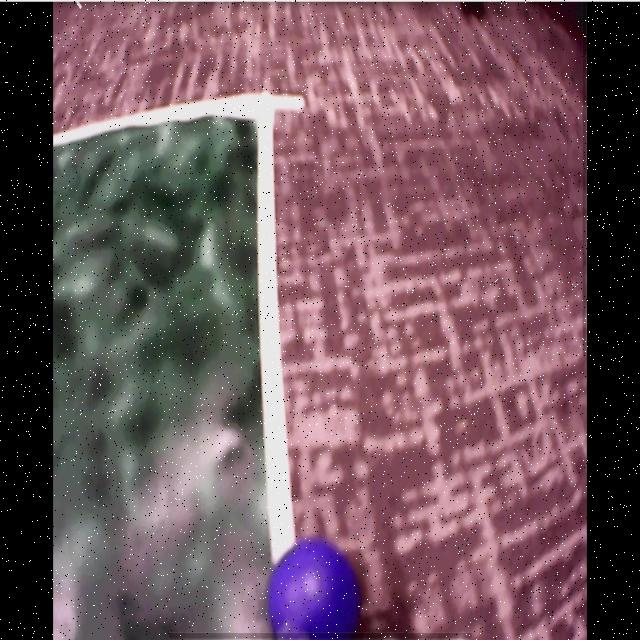ball: (267, 538, 362, 638)
